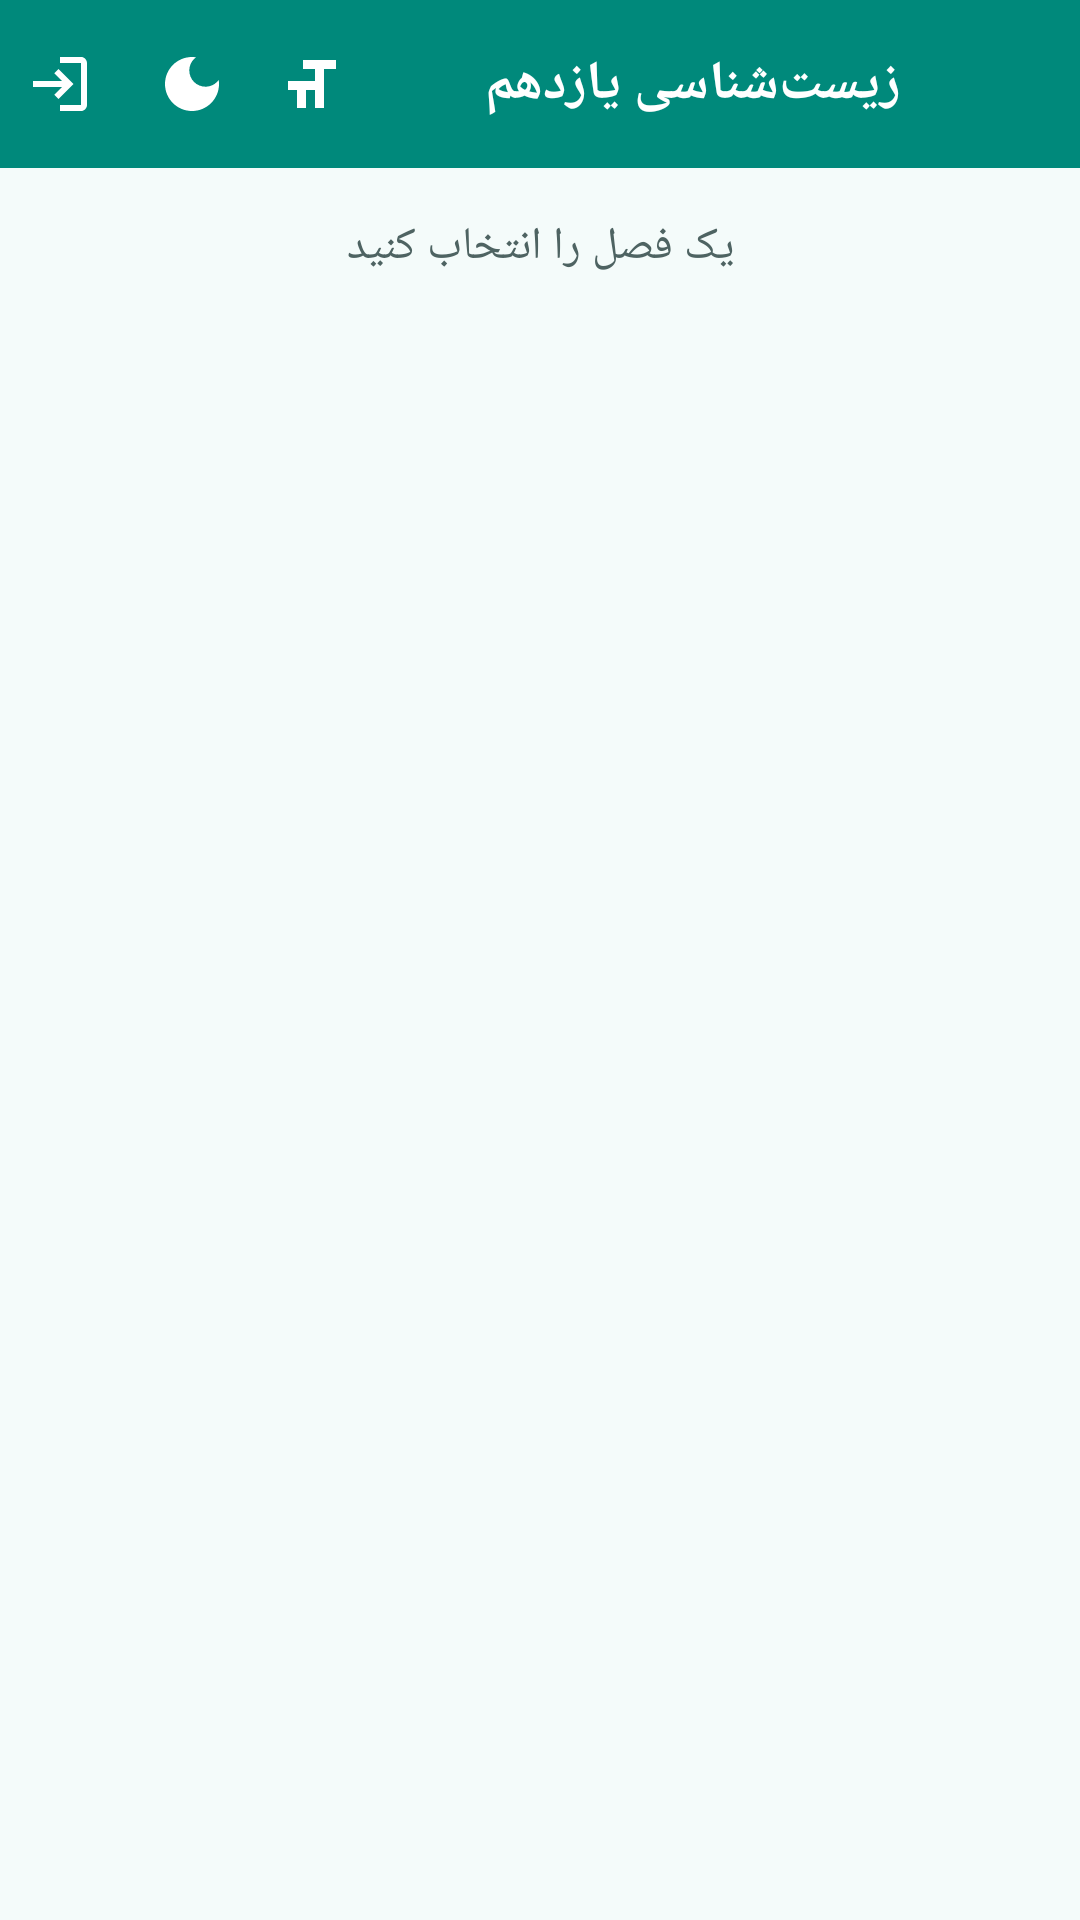

Named icons in this screenshot (1080*1920) and their centers, (x,y):
اندازه فونت: (312,84)
حالت تاریک: (192,84)
خروج: (60,84)
